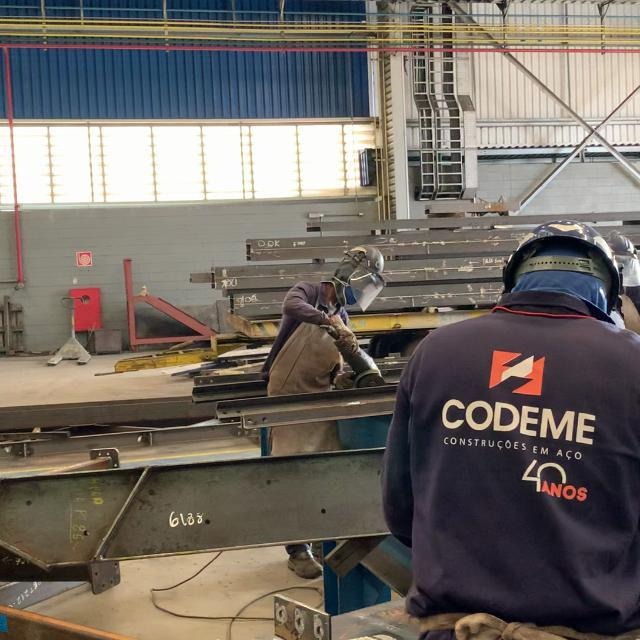face-shield: (346, 256, 387, 314)
glove: (320, 313, 361, 362)
helmet: (503, 221, 622, 310), (344, 246, 385, 275)
person: (381, 221, 640, 634), (265, 243, 396, 385)
safety-shoe: (287, 548, 322, 581)
